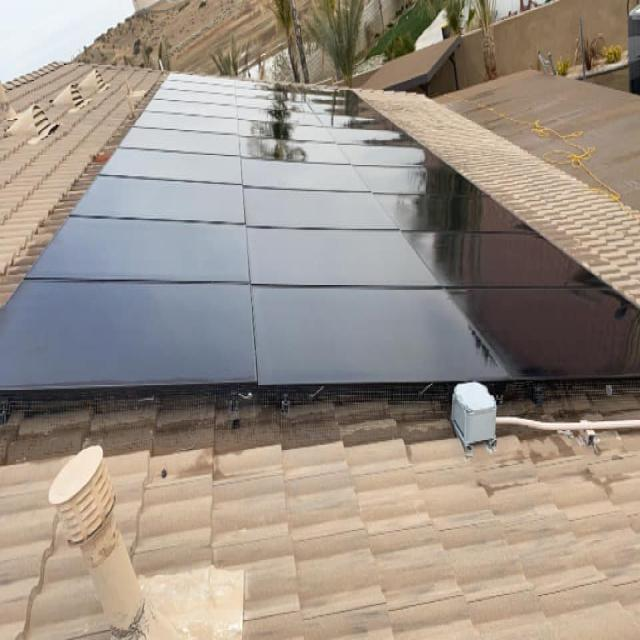clean-solar-panel: (1, 75, 640, 394)
